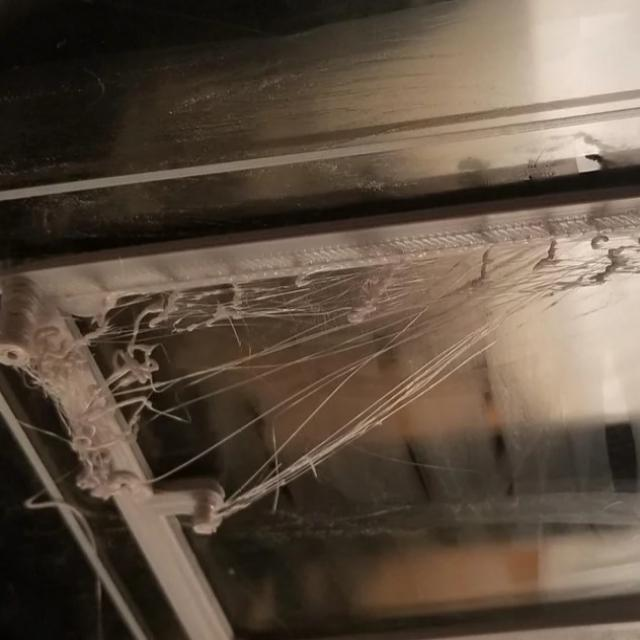Stringing: (226, 259, 566, 520), (110, 317, 412, 425), (485, 233, 633, 290), (344, 264, 480, 322), (139, 292, 225, 339), (232, 287, 346, 321)
